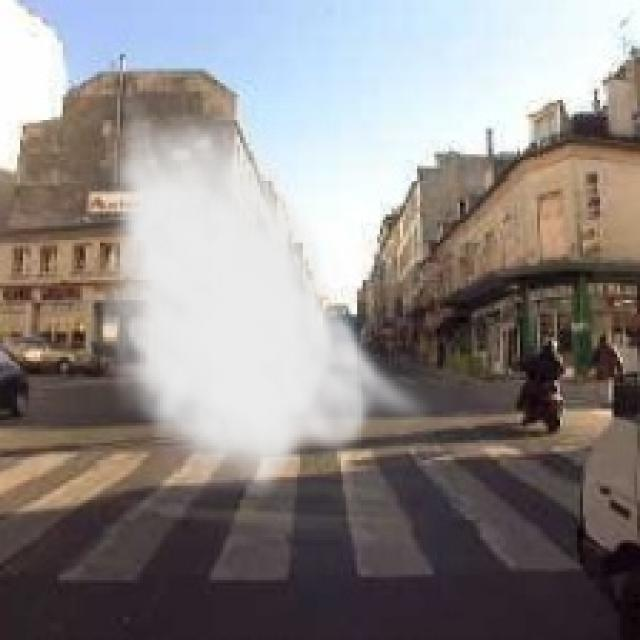smoke: (89, 86, 437, 506)
